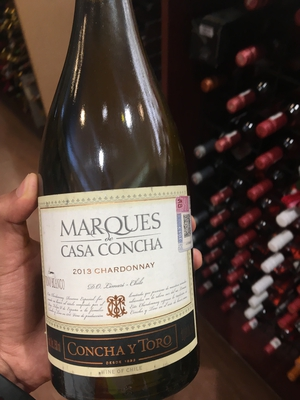marques de casa concha chardonnay: (30, 16, 206, 392)
